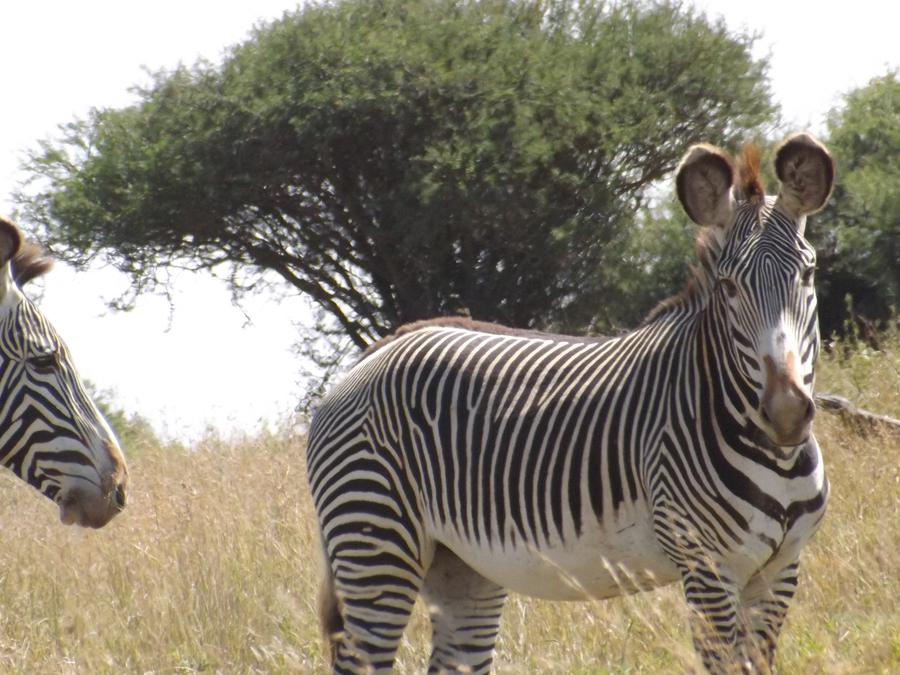zebra_grevys: (280, 294, 756, 574)
